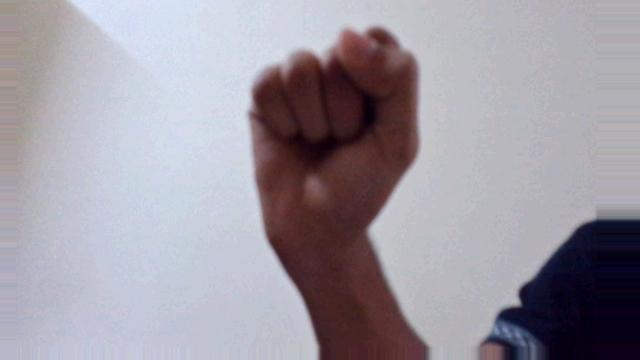Front: (247, 25, 420, 235)
